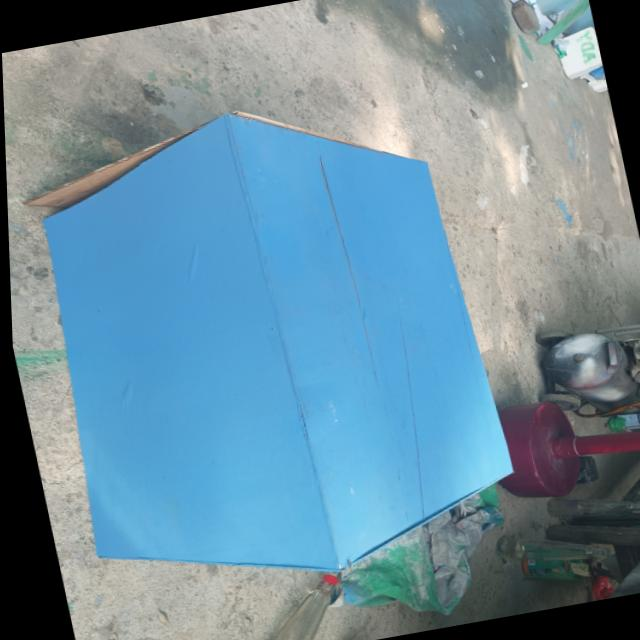blue_box: (14, 80, 538, 610)
